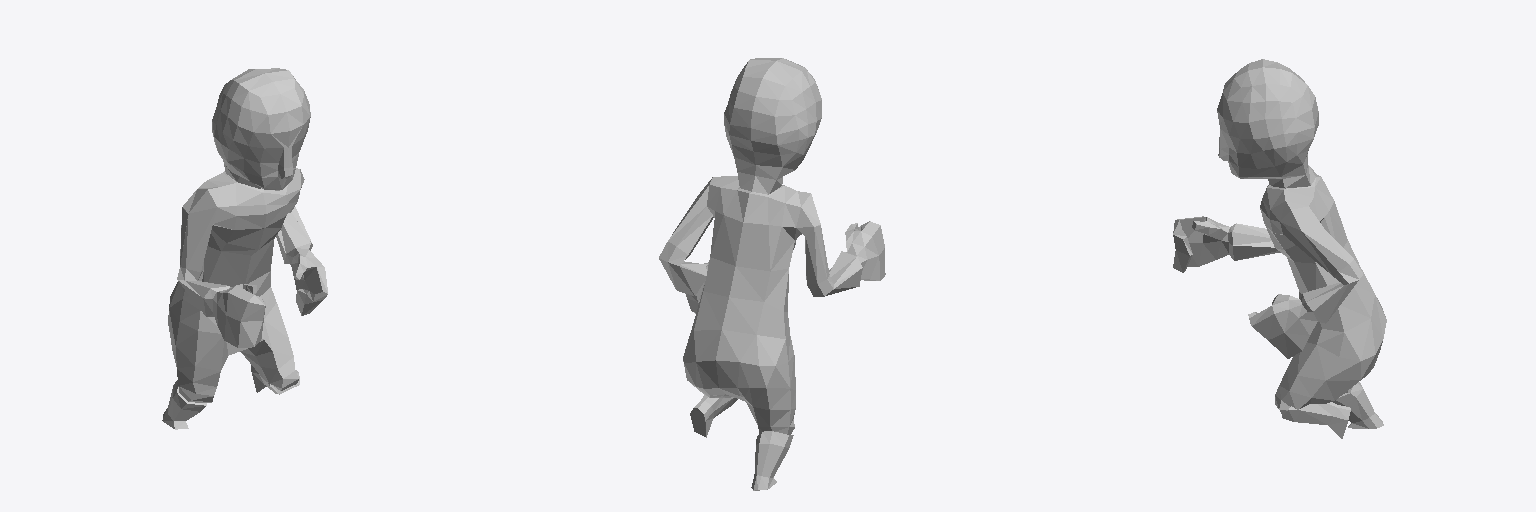
The model's file is KnightCharacter7.obj.
The picture shows the model from 3 angles: view 1: azimuth 30°, elevation 25°; view 2: azimuth 150°, elevation 25°; view 3: azimuth 270°, elevation 25°; orthographic projection.
Visible parts, largest first — view 1: Knight; view 2: Knight; view 3: Knight.
Part boxes in pixels (x1,y1,x2,y2): Knight: (162,68,327,429); Knight: (659,58,885,490); Knight: (1173,59,1386,438).
Bounding box in the file's own units: 2.12 × 5.19 × 2.66.